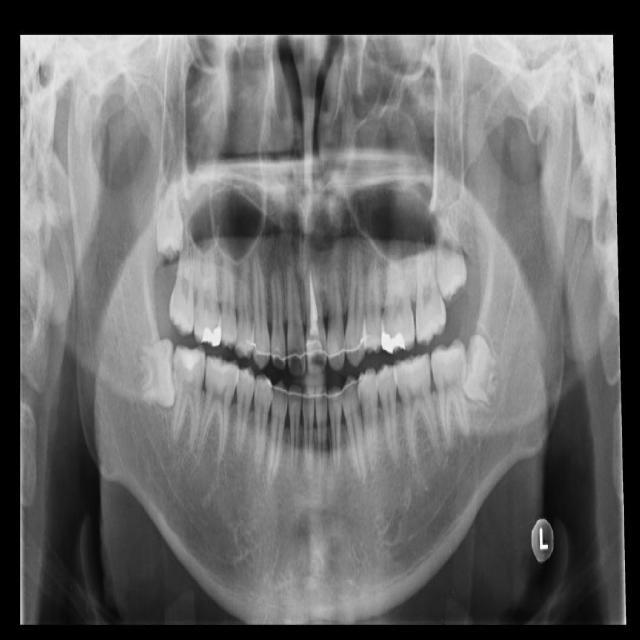3M ESPE Implant: (156, 121, 188, 262)
52: (379, 309, 416, 355), (173, 345, 207, 387), (193, 306, 222, 348)
73: (297, 255, 326, 337), (594, 546, 598, 568)
BioHorizons Implant: (415, 234, 447, 349)
BioLife Implant: (429, 190, 468, 301)
Biomet 3i Implant: (455, 333, 513, 410)
Blue Sky Bio Implant: (429, 337, 472, 450)
Caries: (168, 217, 195, 335)
Implant: (170, 344, 207, 446)
Keystone Dental Implant: (136, 336, 177, 409)
